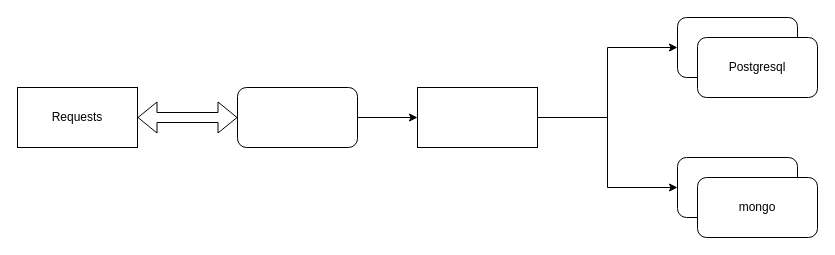
This 835x255 diagram has some shape labels left out. Each missing label, with the centre of its shape:
"cache service" belongs at point (297, 117).
"dbconnector" belongs at point (477, 117).
